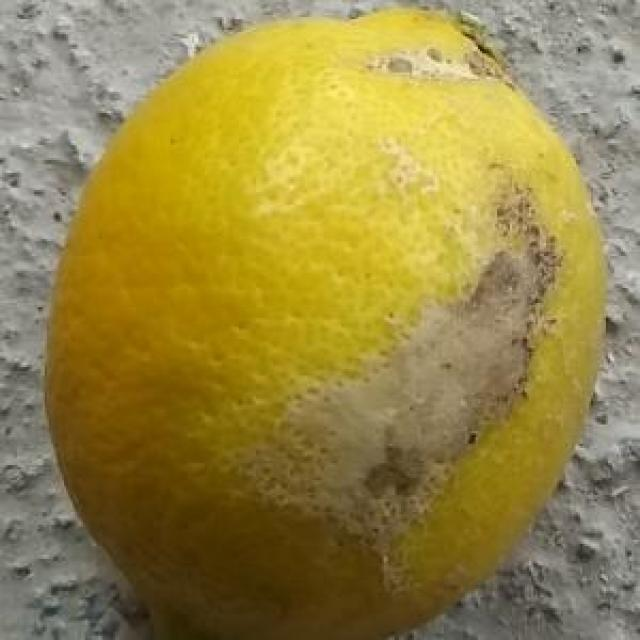lemon: (41, 11, 613, 640)
